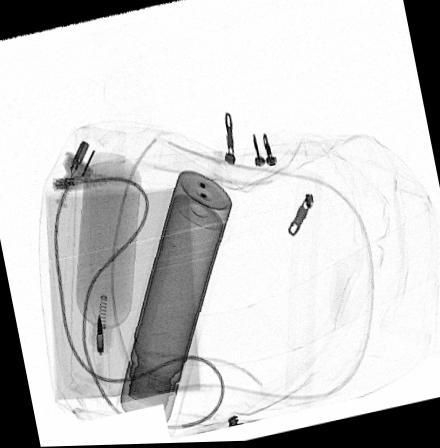Bullet: (94, 313, 103, 356)
